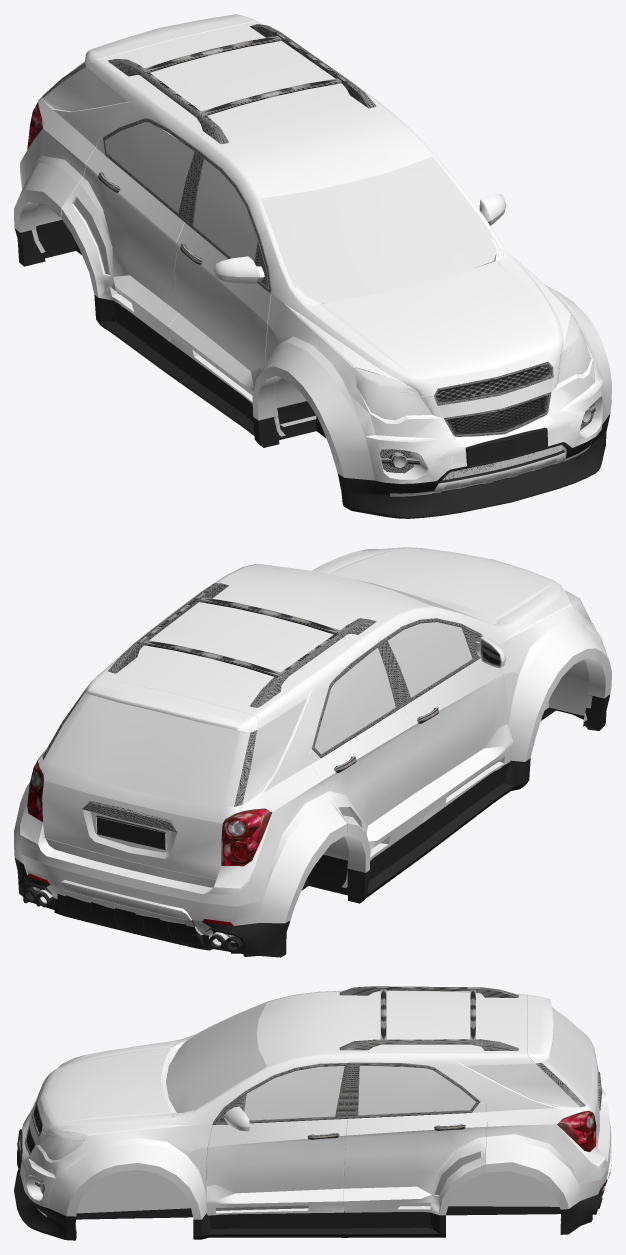
File: Patriot.fbx
The picture shows the model from 3 angles, top to bottom: view 1: azimuth 30°, elevation 25°; view 2: azimuth 150°, elevation 25°; view 3: azimuth 270°, elevation 25°; orthographic projection. The views are drawn at different scales.
Parts seen in each view (by area): view 1: kit01_body, kit03_body, window, kit04_body, static_objects, kit04_objects, body, kit03_objects, kit02_body, lights_glass, standart_objects, kit01_objects (+1 smaller); view 2: kit01_body, kit03_body, window, kit04_body, static_objects, kit04_objects, body, kit01_objects, kit03_objects, standart_objects, rear_lights; view 3: kit03_body, kit01_body, window, kit04_body, kit04_objects, body, static_objects, standart_objects, kit03_objects, rear_lights, lights_glass.
Part boxes in pixels (x1,y1,x2,y2): kit01_body: [20, 14, 596, 439]; kit03_body: [27, 14, 604, 483]; window: [42, 61, 496, 303]; kit04_body: [14, 163, 611, 480]; static_objects: [42, 24, 595, 473]; kit04_objects: [14, 228, 609, 516]; body: [20, 63, 594, 437]; kit03_objects: [30, 197, 602, 518]; kit02_body: [21, 176, 603, 483]; lights_glass: [354, 315, 591, 420]; standart_objects: [31, 203, 590, 496]; kit01_objects: [35, 220, 564, 493]; kit01_body: [20, 547, 592, 922]; kit03_body: [20, 547, 602, 923]; window: [43, 579, 479, 807]; kit04_body: [14, 626, 611, 923]; static_objects: [42, 583, 500, 832]; kit04_objects: [14, 694, 609, 957]; body: [25, 628, 593, 925]; kit01_objects: [34, 707, 590, 953]; kit03_objects: [19, 696, 596, 956]; standart_objects: [33, 659, 592, 946]; rear_lights: [27, 759, 272, 866]; kit03_body: [19, 991, 611, 1212]; kit01_body: [26, 990, 611, 1193]; window: [166, 1002, 591, 1120]; kit04_body: [49, 1140, 580, 1219]; kit04_objects: [35, 1201, 582, 1240]; body: [35, 1059, 600, 1206]; static_objects: [24, 986, 601, 1194]; standart_objects: [38, 1165, 611, 1230]; kit03_objects: [14, 1129, 607, 1232]; rear_lights: [557, 1110, 596, 1152]; lights_glass: [39, 1054, 87, 1160].
Size of the model in its own units: 1.97 by 1.53 by 4.58.
